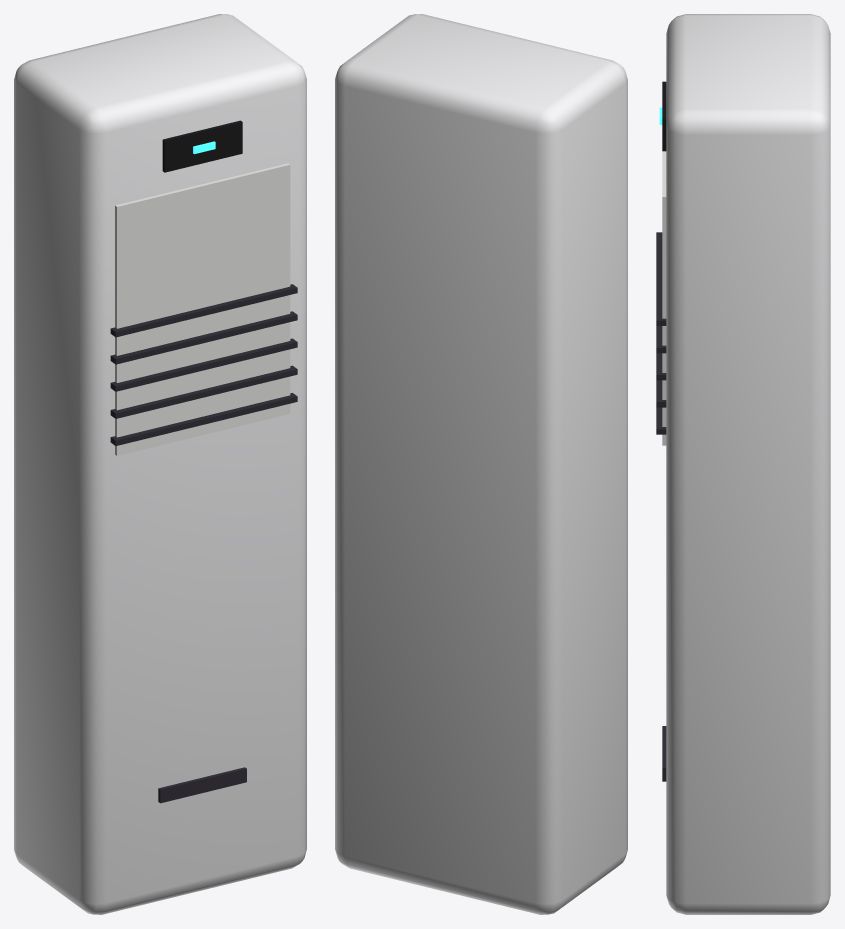
File: fur_standing_ac.glb
The picture shows the model from 3 angles, left to right: view 1: azimuth 30°, elevation 25°; view 2: azimuth 150°, elevation 25°; view 3: azimuth 270°, elevation 25°; orthographic projection.
Parts seen in each view (by area): view 1: FUR_standing_ac; view 2: FUR_standing_ac; view 3: FUR_standing_ac.
Part boxes in pixels (x1,y1,x2,y2): FUR_standing_ac: [14, 14, 306, 914]; FUR_standing_ac: [335, 14, 627, 914]; FUR_standing_ac: [656, 14, 830, 914].
Size of the model in its own units: 0.52 by 1.78 by 0.35.
2 materials, 1 textured.
